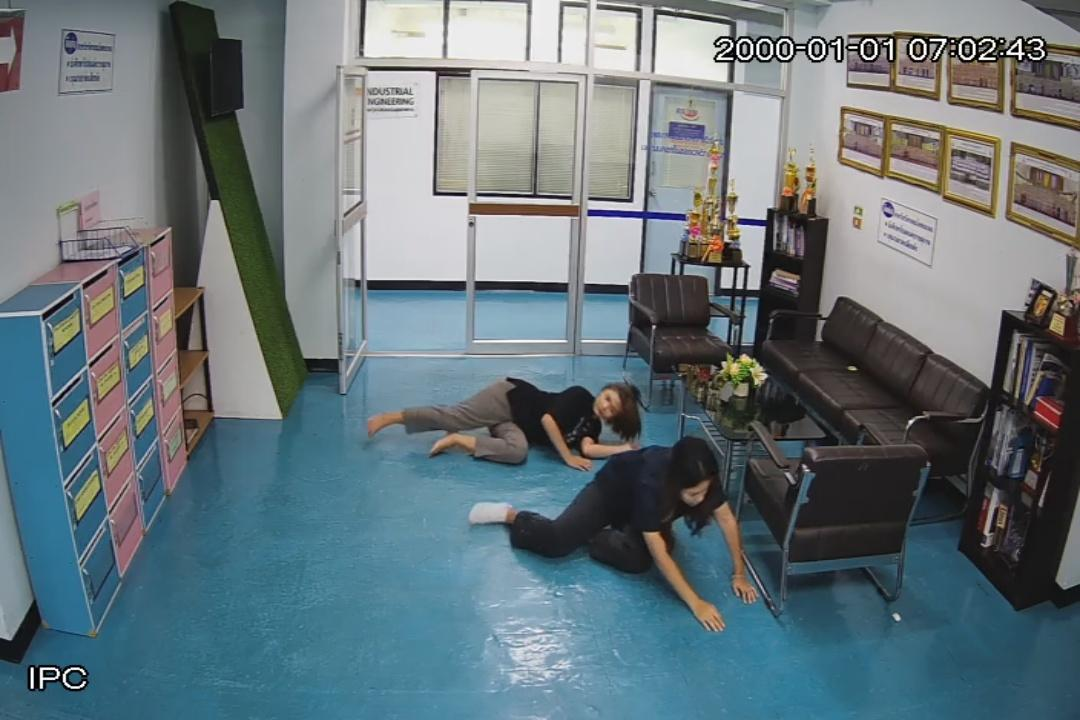fall: (469, 441, 755, 631), (370, 379, 638, 464)
